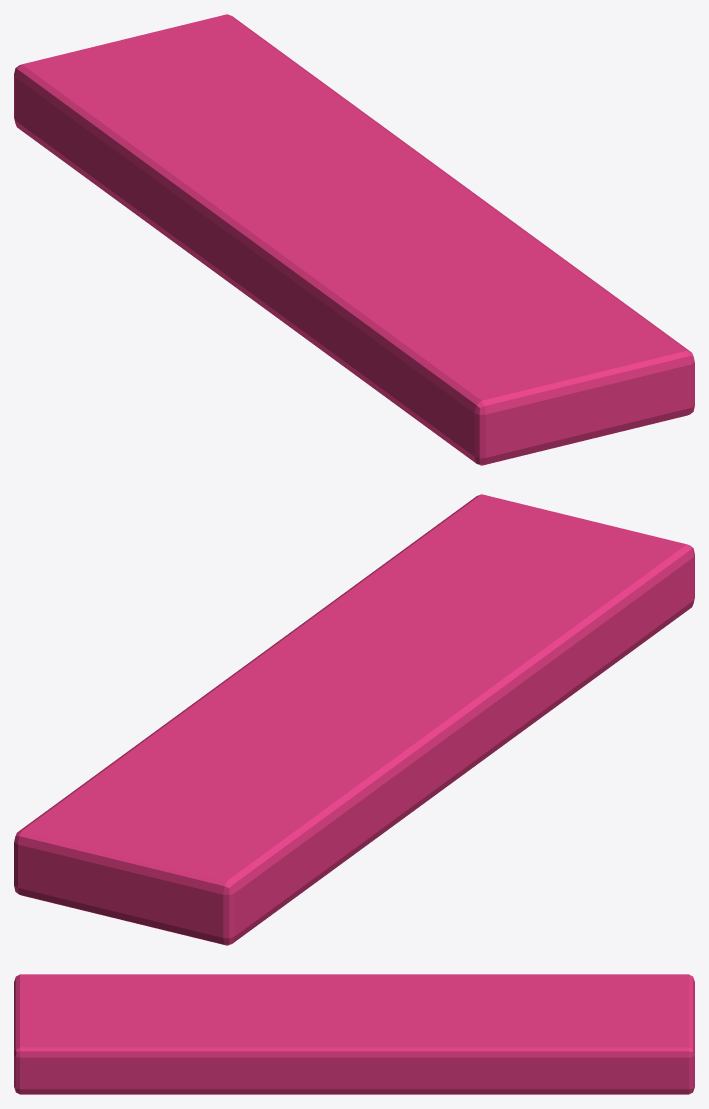
File: Table02.fbx
3 renders of one model, top to bottom at view 1: azimuth 30°, elevation 25°; view 2: azimuth 150°, elevation 25°; view 3: azimuth 270°, elevation 25°, orthographic. The views are drawn at different scales.
Parts seen in each view (by area): view 1: Table02; view 2: Table02; view 3: Table02.
Part boxes in pixels (left/top/right/bottom): Table02: left=14, top=14, right=694, bottom=465; Table02: left=14, top=494, right=694, bottom=945; Table02: left=14, top=974, right=694, bottom=1094.
Size of the model in its own units: 150 by 42.38 by 554.
